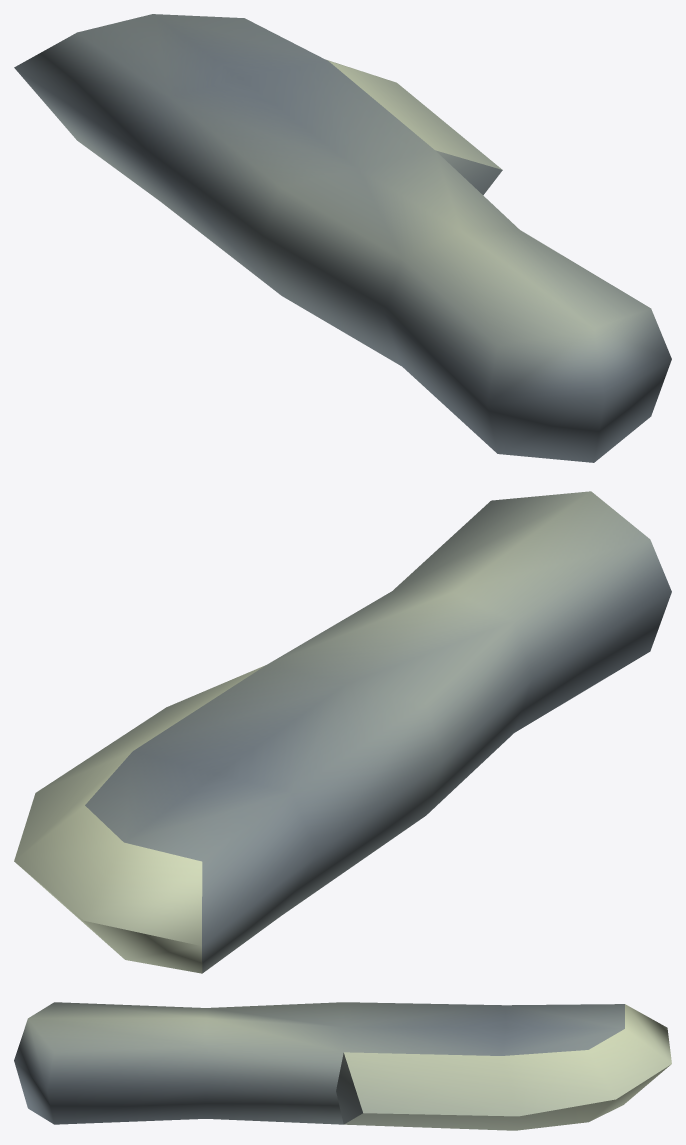
Rendered from knife_LOD_setup.fbx.
The picture shows the model from 3 angles, top to bottom: view 1: azimuth 30°, elevation 25°; view 2: azimuth 150°, elevation 25°; view 3: azimuth 270°, elevation 25°; orthographic projection. The views are drawn at different scales.
Parts seen in each view (by area): view 1: knife_LOD0; view 2: knife_LOD0; view 3: knife_LOD0.
Boxes of the visible parts, x1=… form: knife_LOD0: x1=14, y1=14, x2=671, y2=462; knife_LOD0: x1=14, y1=491, x2=671, y2=973; knife_LOD0: x1=14, y1=1002, x2=671, y2=1130.
Size of what is drawn, in the model's own units: 17.69 by 8.82 by 55.43.
